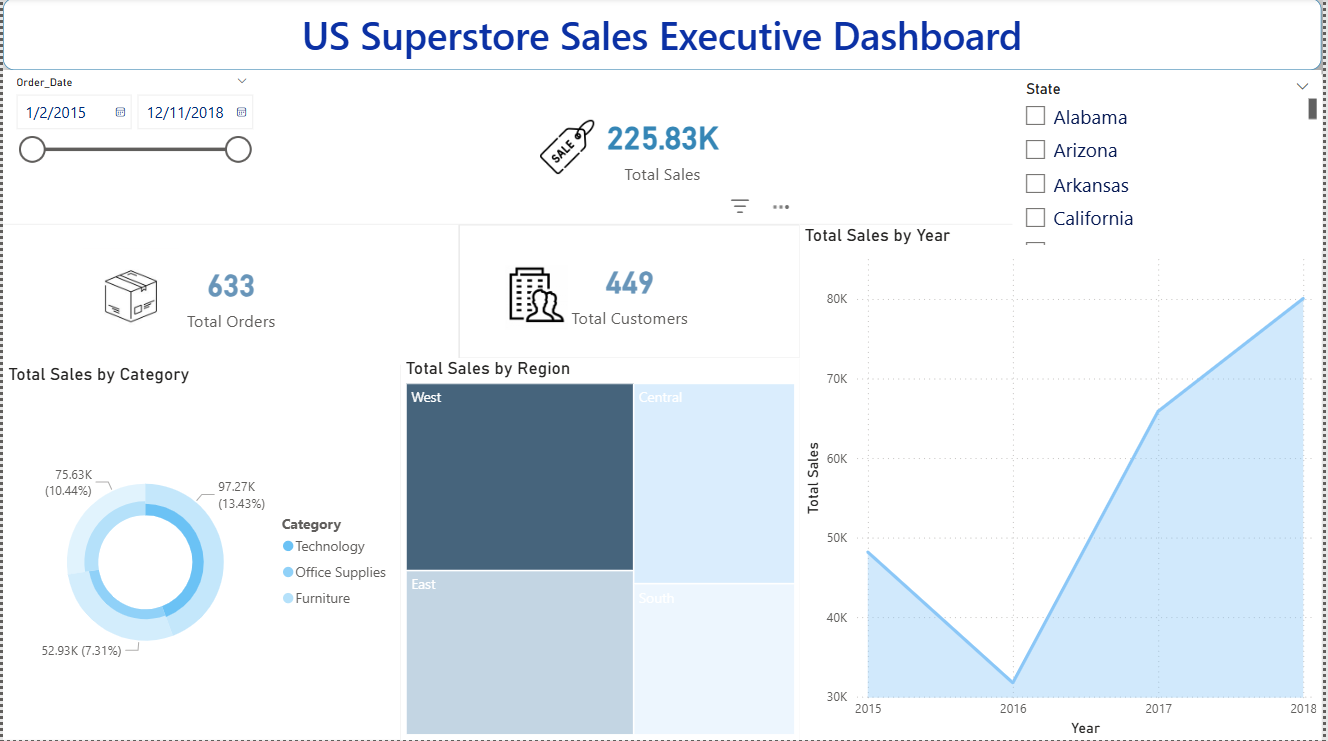

The page's visual inventory and layout, read from the dashboard file:
{"tool":"powerbi","page":{"name":"Sales Overview","canvas":[1280,720],"ordinal":0},"visuals":[{"type":"textbox","box":[0,0,1279.4,69.9],"z":0},{"type":"card","fields":{"Values":["superstore_clean.Total Sales"]},"box":[0,69.9,1279.4,149.3],"z":1},{"type":"card","fields":{"Values":["superstore_clean.Total Orders"]},"box":[0,219.2,442.2,136.1],"z":2},{"type":"card","fields":{"Values":["superstore_clean.Total Customers"]},"box":[442.2,219.2,330.7,130.4],"z":3},{"type":"image","box":[521.6,113.4,52.9,62.4],"z":4},{"type":"image","box":[77.5,243.8,94.5,92.6],"z":5},{"type":"image","box":[487.6,257,60.5,66.1],"z":6},{"type":"areaChart","fields":{"Category":["superstore_clean.Order_Date.Variation.Date Hierarchy.Year","superstore_clean.Order_Date.Variation.Date Hierarchy.Quarter","superstore_clean.Order_Date.Variation.Date Hierarchy.Month","superstore_clean.Order_Date.Variation.Date Hierarchy.Day"],"Y":["superstore_clean.Total Sales"]},"box":[772.9,219.2,506.5,500.8],"z":7},{"type":"donutChart","fields":{"Category":["superstore_clean.Category"],"Y":["superstore_clean.Total Sales"]},"box":[0,355.3,385.5,364.7],"z":8},{"type":"treemap","fields":{"Group":["superstore_clean.Region"],"Values":["superstore_clean.Total Sales"]},"box":[385.5,349.6,387.4,370.4],"z":9},{"type":"slicer","fields":{"Values":["superstore_clean.Order_Date"]},"box":[0,69.9,249.5,90.7],"z":10},{"type":"slicer","fields":{"Values":["superstore_clean.State"]},"box":[978.9,73.7,300.5,170.1],"z":11}]}

Visuals, with their boxes in screenshot pixels (x1, y1, x2, y2), scaled from the page's 1280x720 canvas onto the 1328x741 screenshot:
textbox: BBox(0, 0, 1327, 72)
card - superstore_clean.Total Sales: BBox(0, 72, 1327, 226)
card - superstore_clean.Total Orders: BBox(0, 226, 459, 366)
card - superstore_clean.Total Customers: BBox(459, 226, 802, 360)
image: BBox(541, 117, 596, 181)
image: BBox(80, 251, 178, 346)
image: BBox(506, 264, 569, 333)
areaChart - superstore_clean.Order_Date.Variation.Date Hierarchy.Year x superstore_clean.Order_Date.Variation.Date Hierarchy.Quarter: BBox(802, 226, 1327, 740)
donutChart - superstore_clean.Category x superstore_clean.Total Sales: BBox(0, 366, 400, 740)
treemap - superstore_clean.Region x superstore_clean.Total Sales: BBox(400, 360, 802, 740)
slicer - superstore_clean.Order_Date: BBox(0, 72, 259, 165)
slicer - superstore_clean.State: BBox(1016, 76, 1327, 251)
